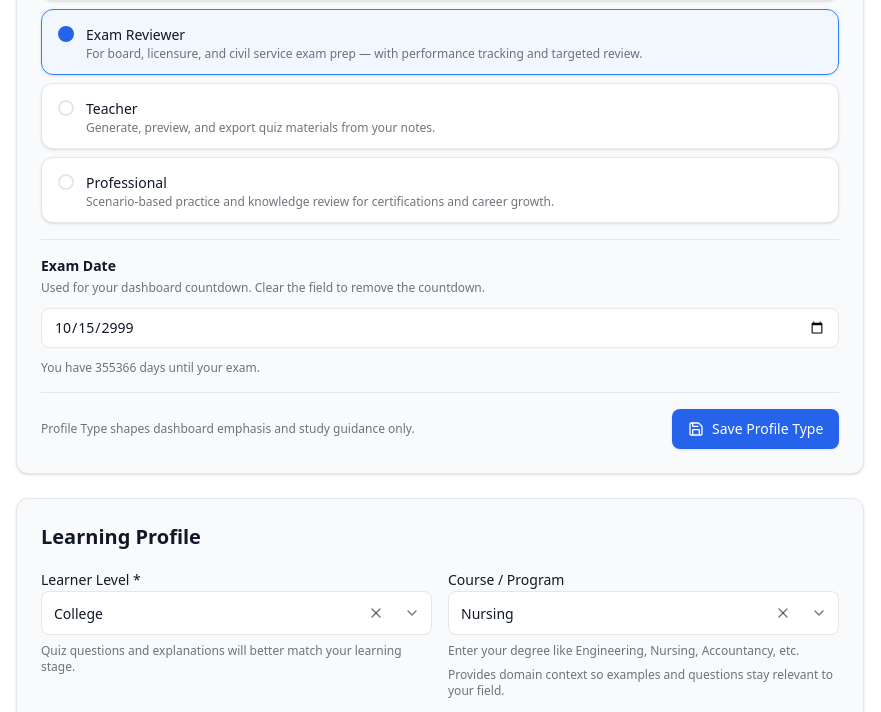
Profile page › shows exam date save errors without keeping the unsaved date
(page scrolled)
In the date field named "Exam Date": (440, 328) [41, 308, 839, 348], type "2999-12-20"
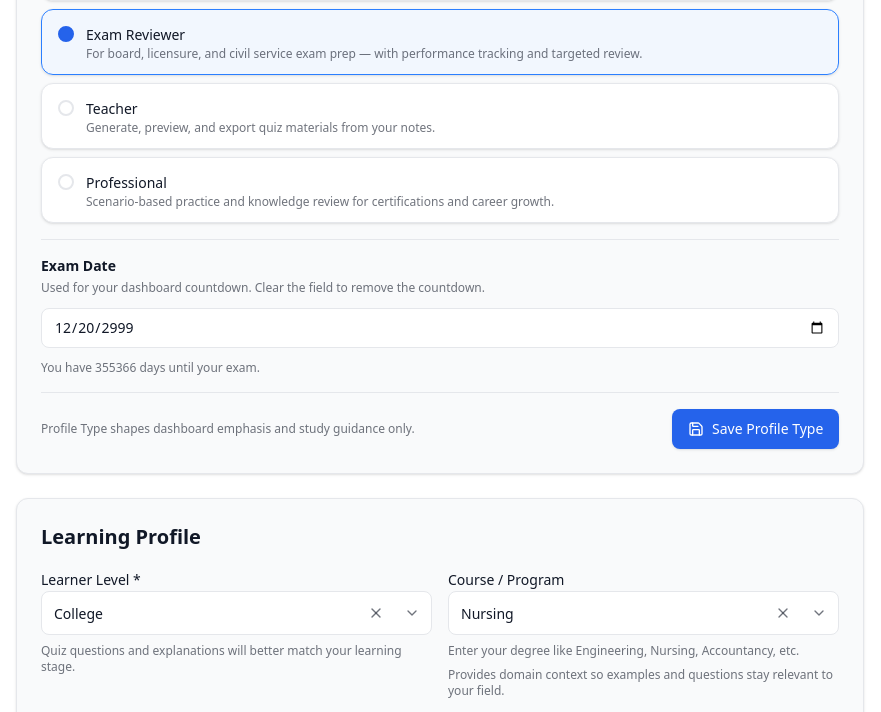
Click the button "Save Profile Type": (755, 429) [672, 409, 839, 449]
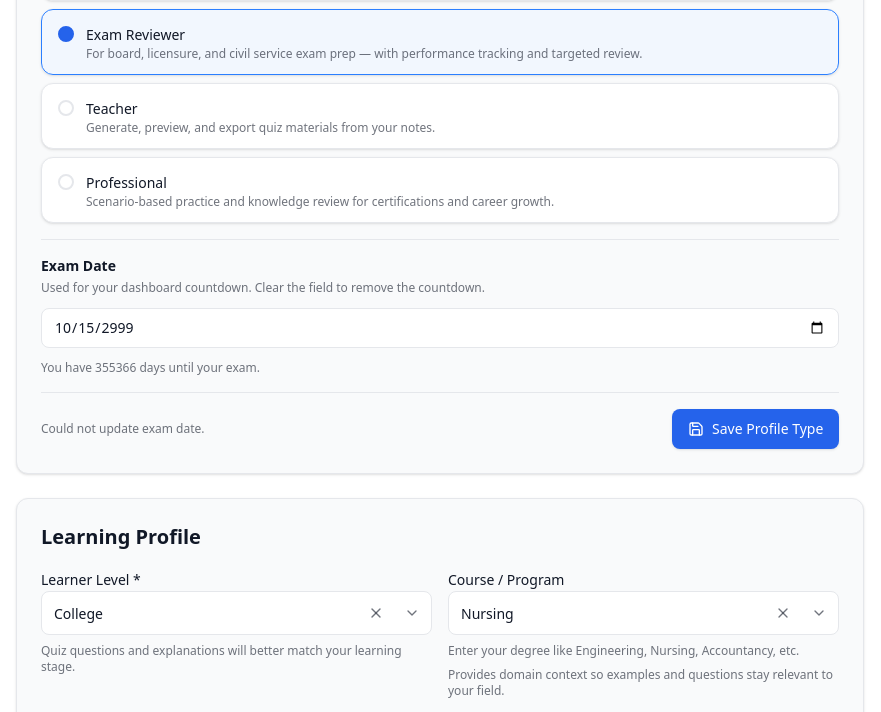
Now the text "Could not update exam date." is shown, box [41, 421, 204, 437]
Now the date field named "Exam Date" holds "2999-10-15", box [41, 308, 839, 348]
